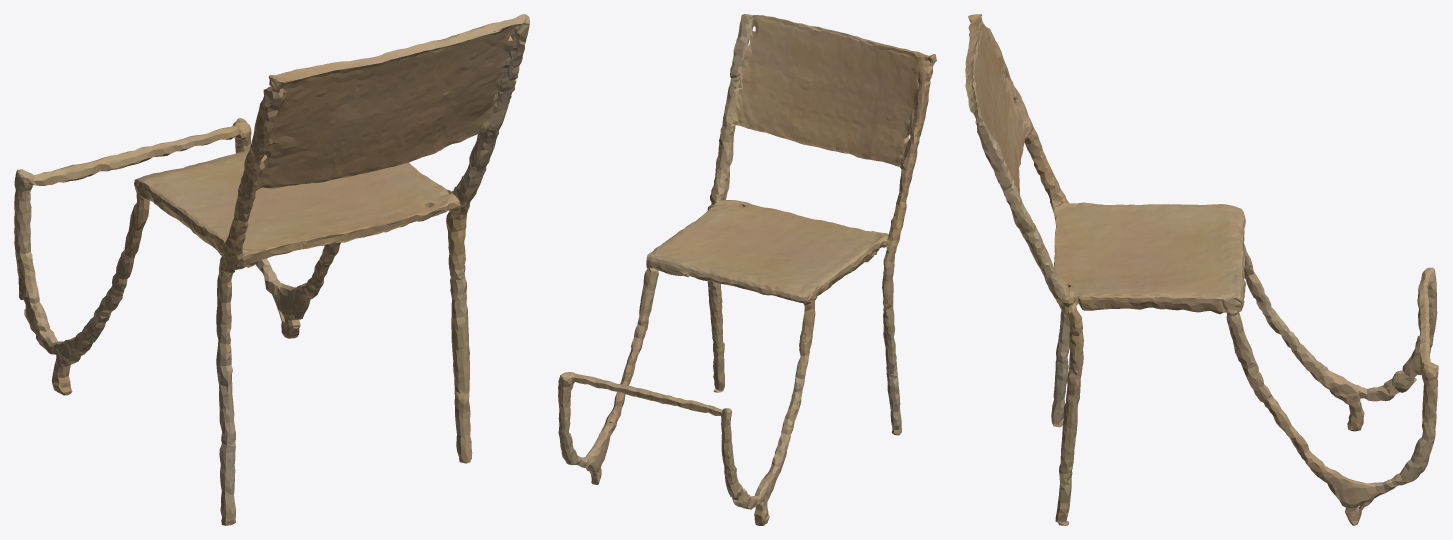
The picture shows the model from 3 angles, left to right: view 1: azimuth 30°, elevation 25°; view 2: azimuth 150°, elevation 25°; view 3: azimuth 270°, elevation 25°; orthographic projection. The views are drawn at different scales.
Visible parts, largest first — view 1: defaultobject; view 2: defaultobject; view 3: defaultobject.
Part boxes in pixels (x1,y1,x2,y2): defaultobject: (14,14,529,525); defaultobject: (558,14,936,525); defaultobject: (965,14,1438,525).
Bounding box in the file's own units: 0.4335 × 0.7642 × 0.7975.
